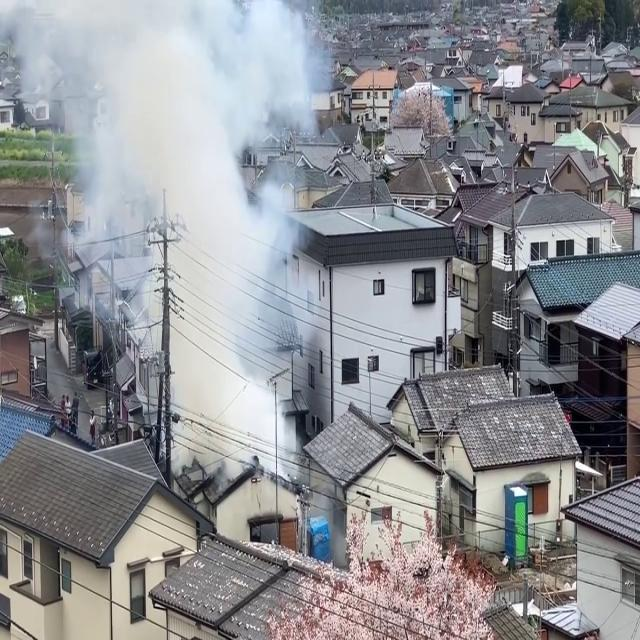Smoke: (33, 0, 324, 493)
